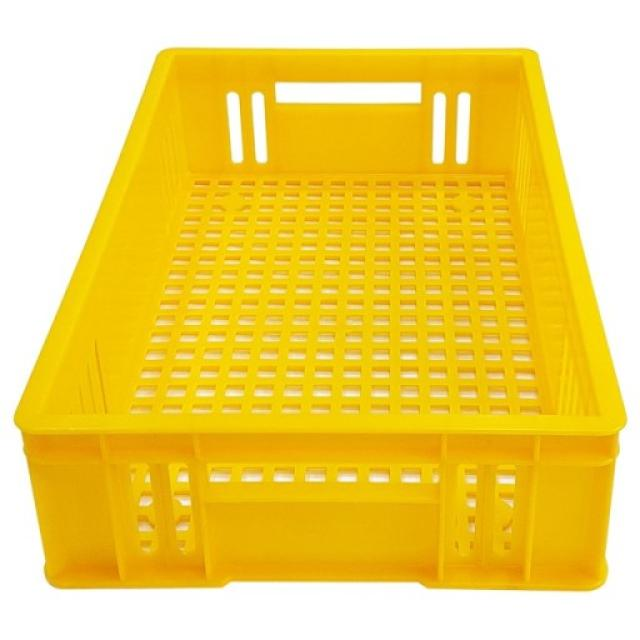basket: (14, 48, 628, 593)
